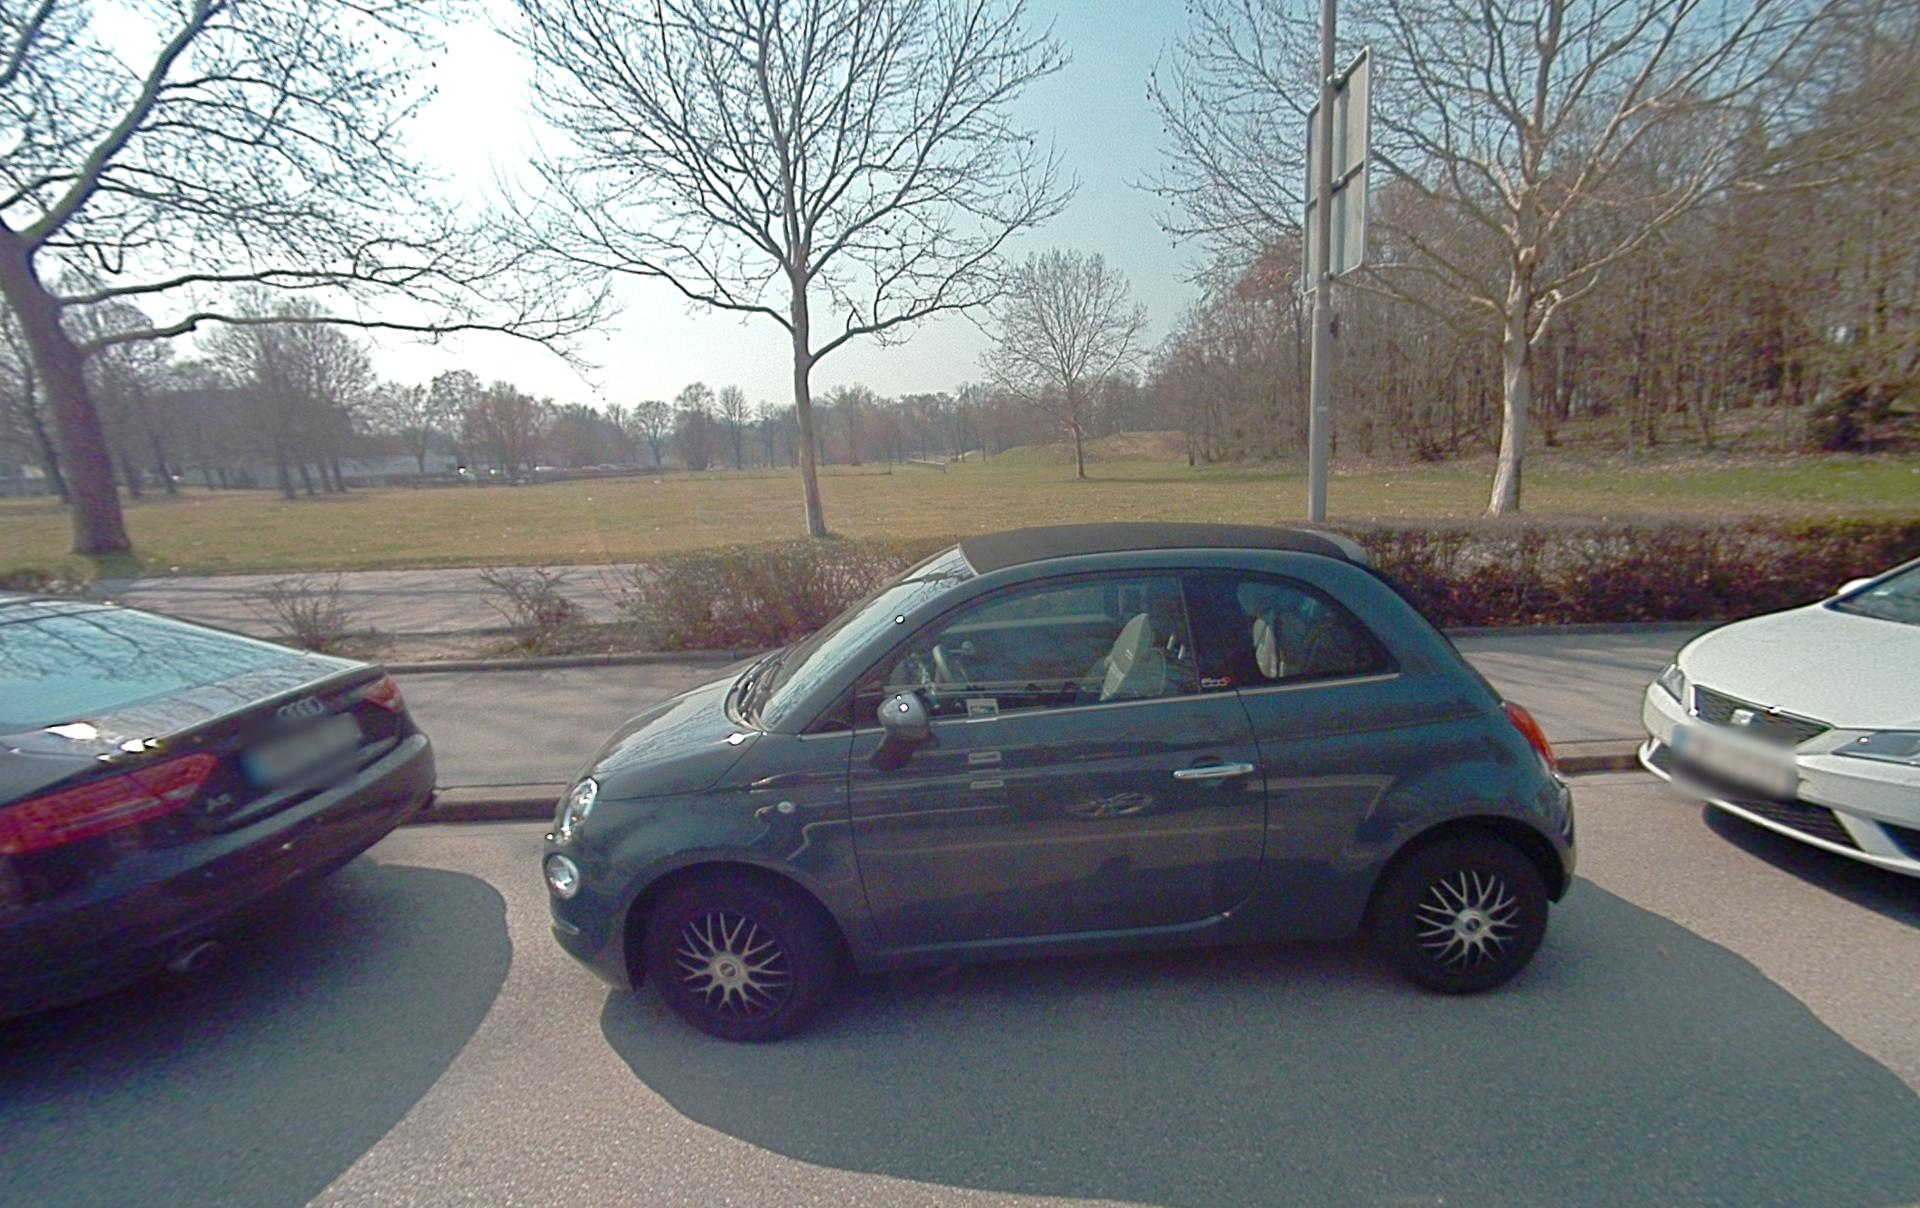car: (541, 520, 1578, 1042), (1, 593, 437, 1024), (1638, 555, 1920, 880)
